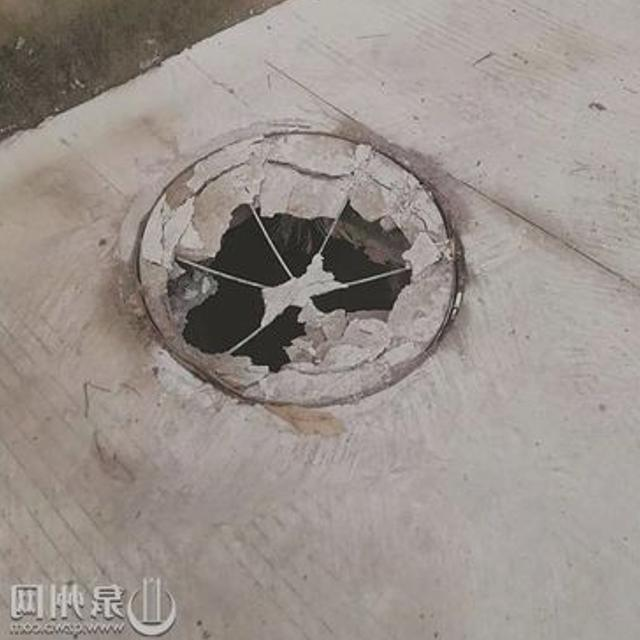broke: (68, 113, 514, 419)
